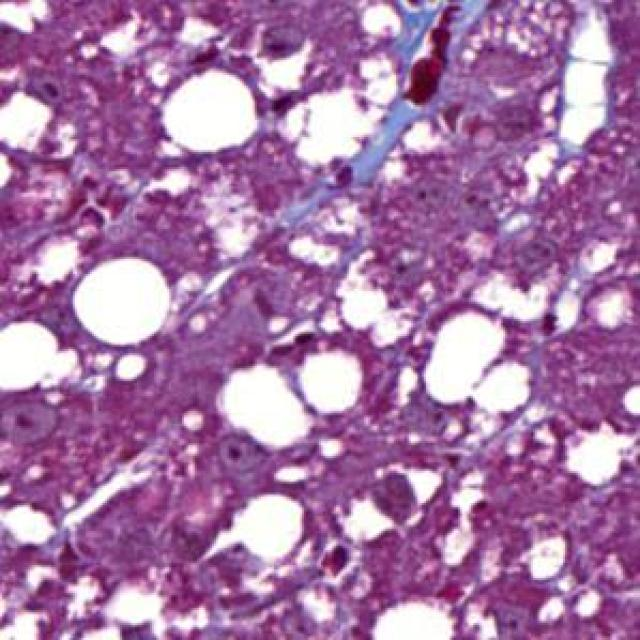steatosis: (73, 252, 182, 340), (158, 77, 259, 152)
